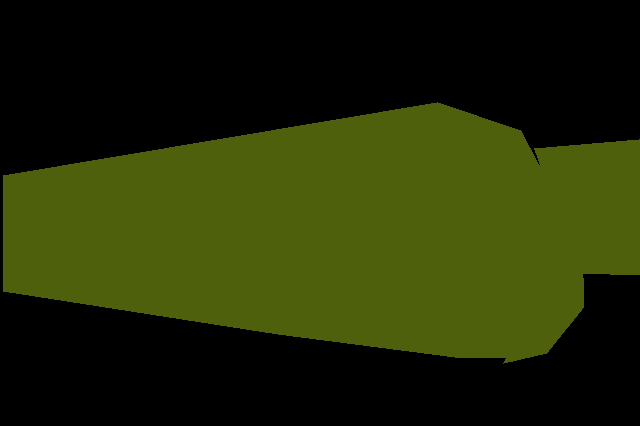Train: (3, 102, 583, 364), (534, 139, 640, 275)
